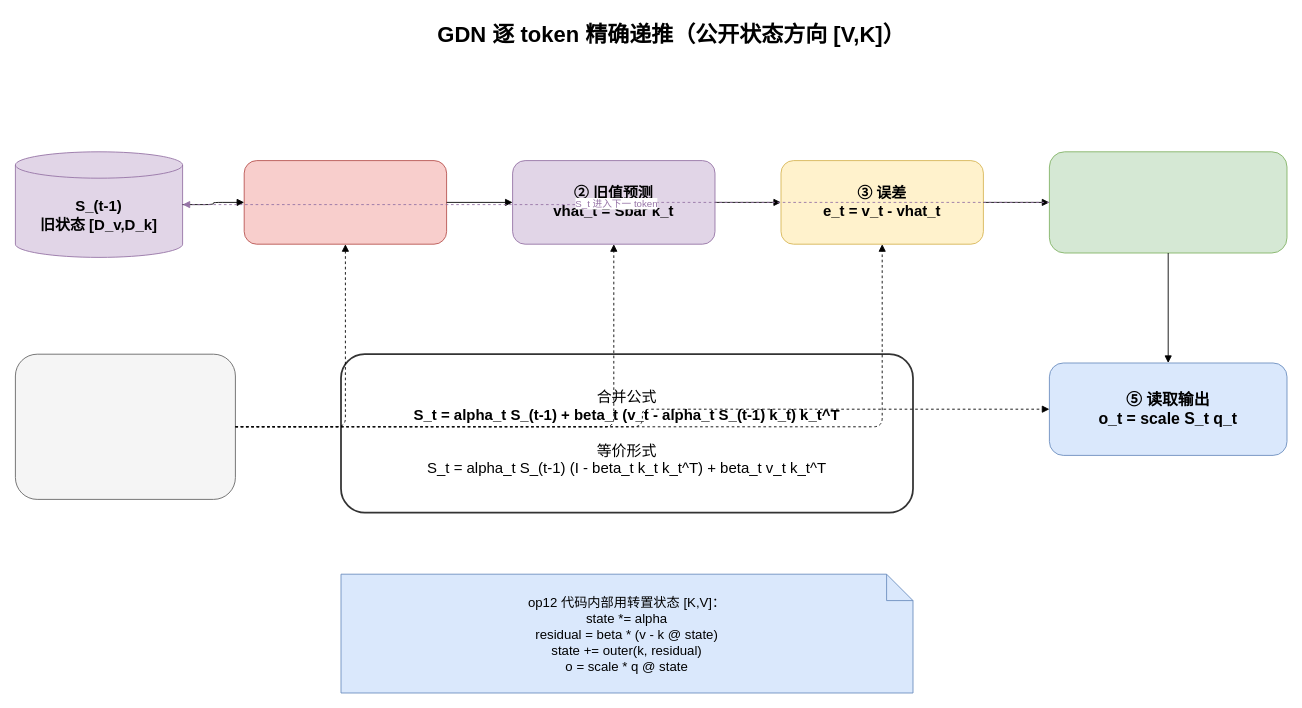
Image size: 1302x708. Some labels were removed from this diagram. The centre of each missing label's shape, as x and y in pixels:
① 遗忘 Sbar = alpha_t S_(t-1): the point at 345,202
④ 秩一写入 S_t = Sbar + beta_t e_t k_t^T: the point at 1168,202
本 token 输入 q_t：[D_k] k_t：[D_k] v_t：[D_v] alpha_t, beta_t：标量: the point at 125,426
